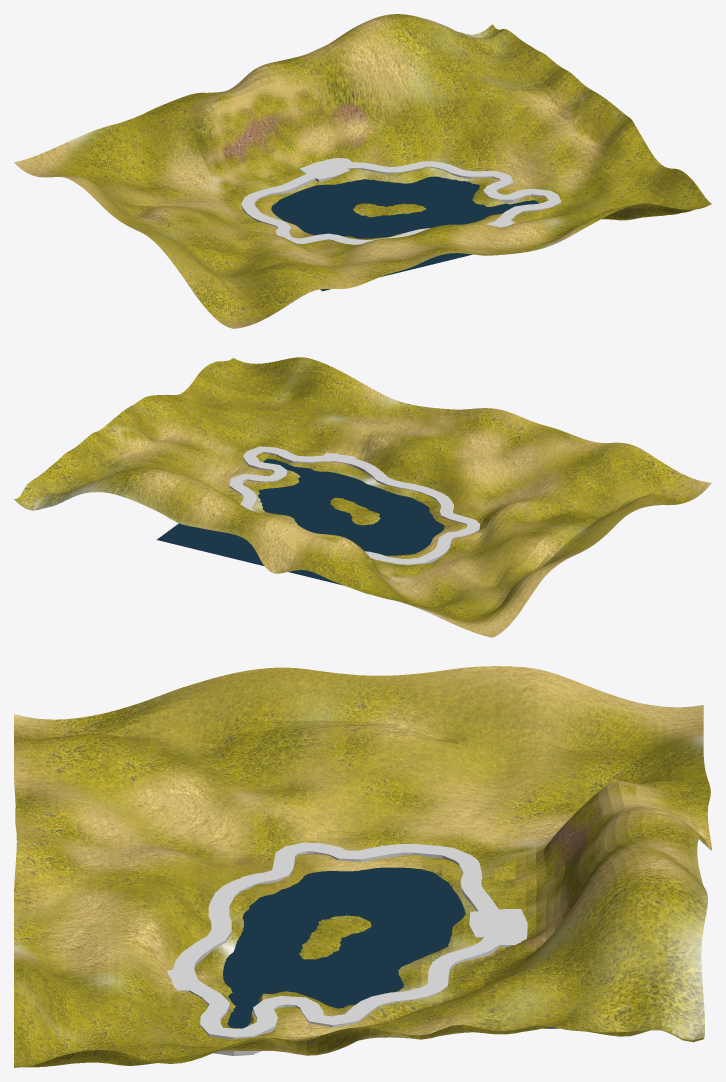
File: lagoon.glb
3 renders of one model, top to bottom at view 1: azimuth 30°, elevation 25°; view 2: azimuth 150°, elevation 25°; view 3: azimuth 270°, elevation 25°, orthographic. The views are drawn at different scales.
Visible parts, largest first — view 1: terrain, lagoon, road; view 2: terrain, lagoon, road; view 3: terrain, lagoon, road.
Boxes of the visible parts, box(x1,y1,x2,y2) form: terrain: box(14, 14, 711, 328); lagoon: box(271, 176, 539, 291); road: box(241, 158, 561, 245); terrain: box(14, 357, 711, 637); lagoon: box(156, 458, 444, 585); road: box(229, 446, 480, 565); terrain: box(14, 666, 711, 1067); lagoon: box(223, 867, 558, 1028); road: box(167, 842, 527, 1056).
Size of the model in its own units: 298 by 59.34 by 237.
Materials: 3 (1 with a texture image).
